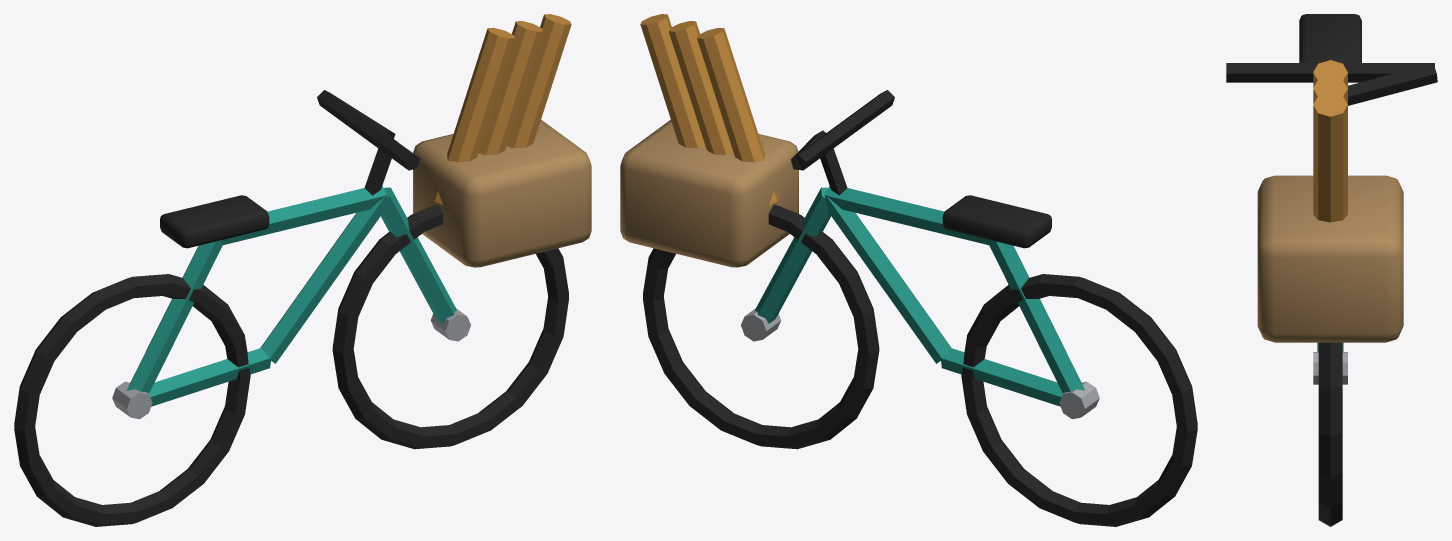
The model's file is prop_bike.glb.
The picture shows the model from 3 angles, left to right: view 1: azimuth 30°, elevation 25°; view 2: azimuth 150°, elevation 25°; view 3: azimuth 270°, elevation 25°; orthographic projection. The views are drawn at different scales.
Parts seen in each view (by area): view 1: prop_bike; view 2: prop_bike; view 3: prop_bike.
Part boxes in pixels (bbox=[...]): prop_bike: bbox=[14, 14, 591, 526]; prop_bike: bbox=[620, 14, 1197, 526]; prop_bike: bbox=[1226, 14, 1437, 526].
Bounding box in the file's own units: 2.16 × 1.51 × 0.6083.
